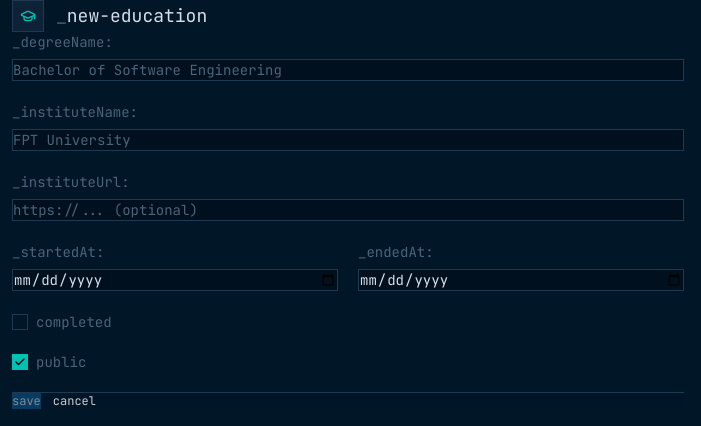
admin education form › create › shows an error and lets the user retry when the backend fails
The image size is (701, 426).
Step 1. Type "MSc" into the field labelled "_degreeName:" → {"x": 348, "y": 70}, box left=12, top=59, right=684, bottom=81
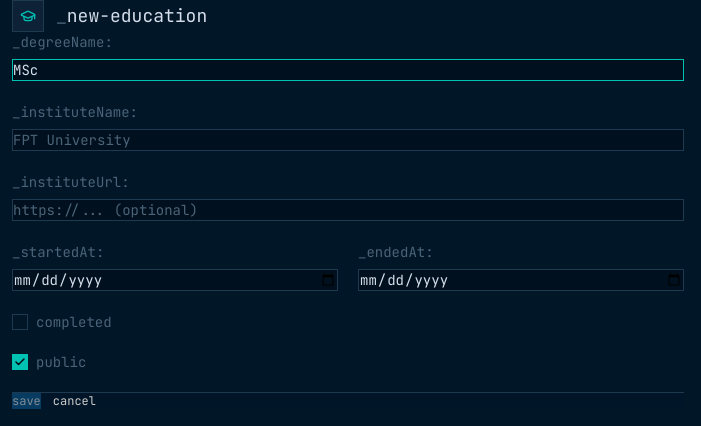
Step 2. Type "MIT" into the field labelled "_instituteName:" → {"x": 348, "y": 140}, box left=12, top=129, right=684, bottom=151
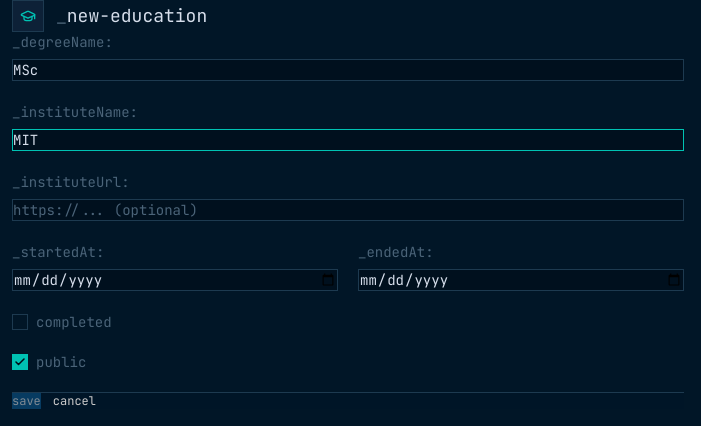
Step 3. Type "2020-09-01" into the date field labelled "_startedAt:" → {"x": 175, "y": 280}, box left=12, top=269, right=338, bottom=291
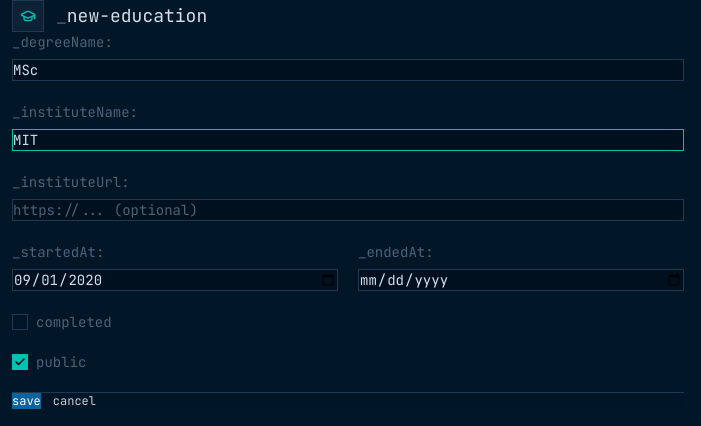
Step 4. Click the button "save" → {"x": 26, "y": 401}, box left=12, top=393, right=41, bottom=409
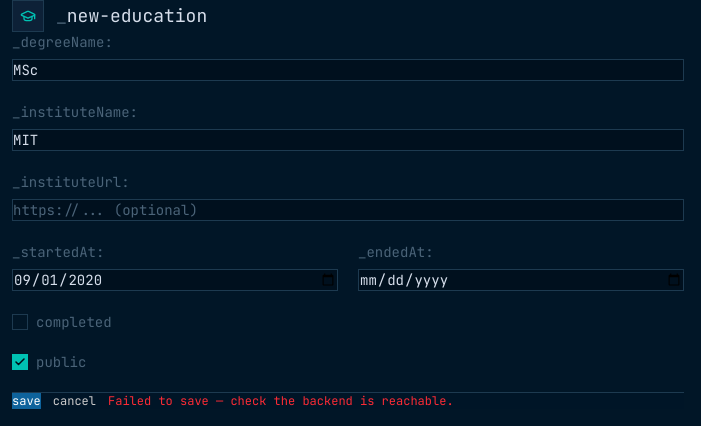
Now the button "save" is enabled, box left=12, top=393, right=41, bottom=409
Now the text "Failed to save — check the backend is reachable." is shown, box left=108, top=393, right=454, bottom=409
